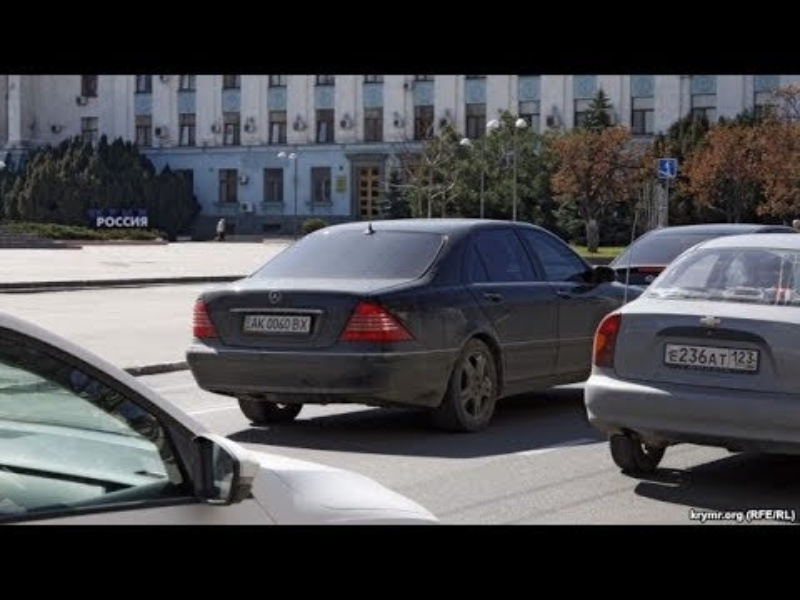car: (185, 216, 642, 435), (1, 311, 439, 524), (583, 234, 800, 473), (606, 224, 800, 283)
plate: (663, 342, 759, 375), (243, 315, 311, 334)
